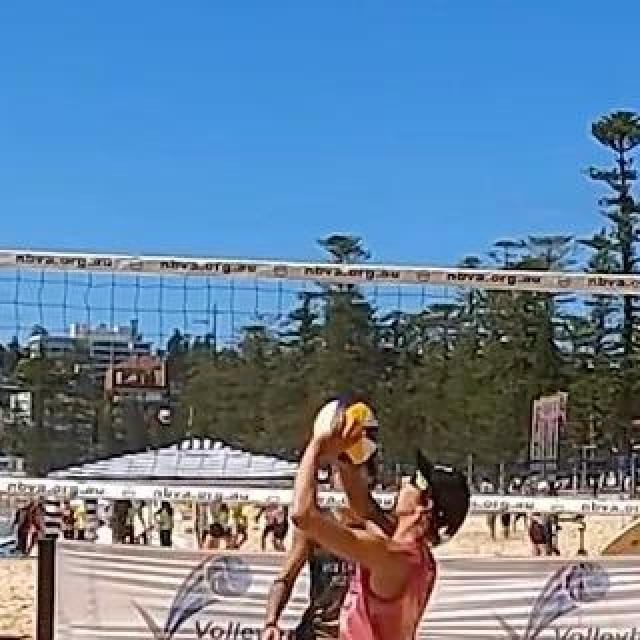volleyball: (315, 397, 377, 465)
